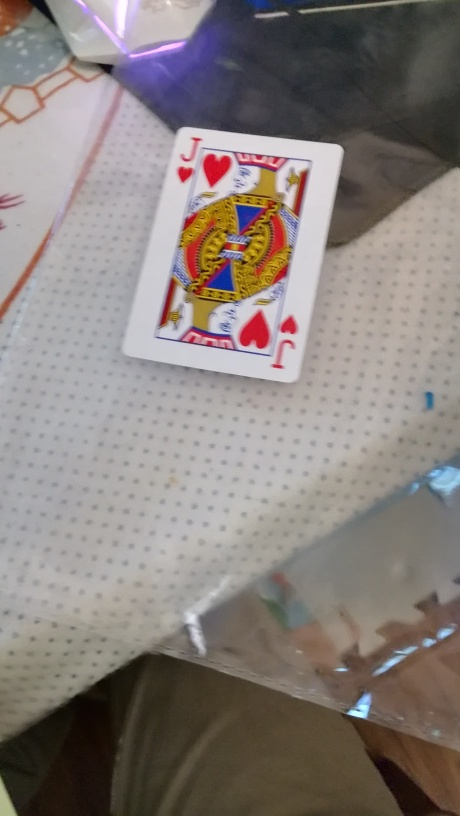hx j: (122, 126, 346, 391)
